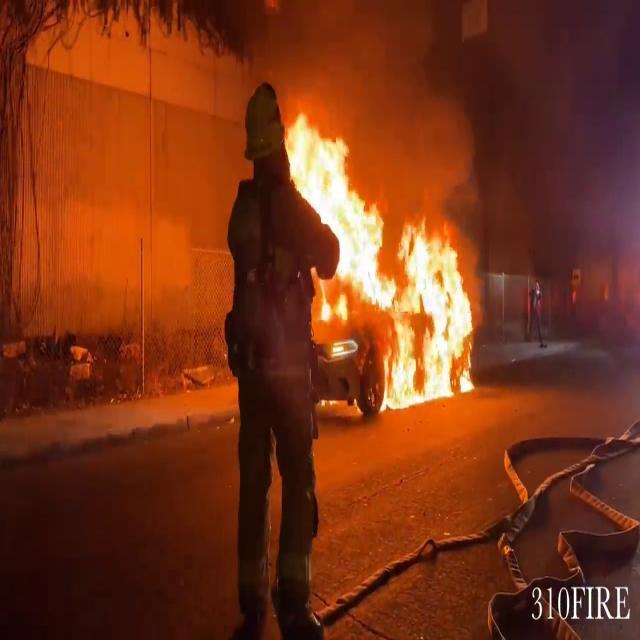Fire: (284, 99, 484, 409)
